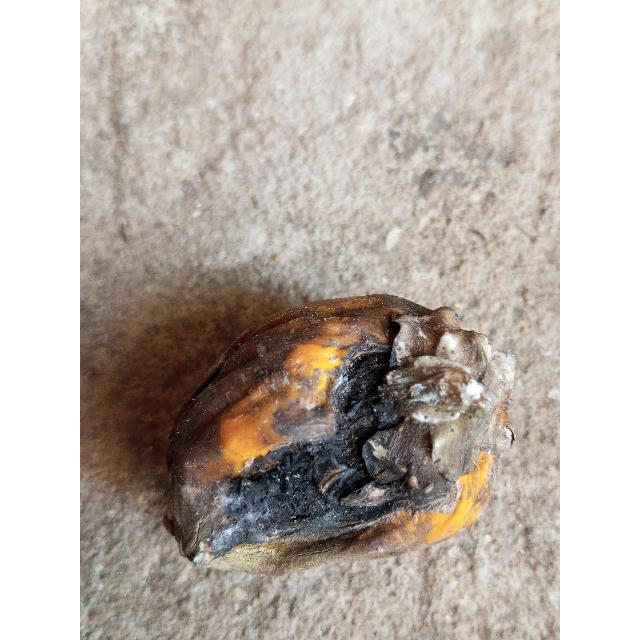damaged: (164, 295, 515, 572)
